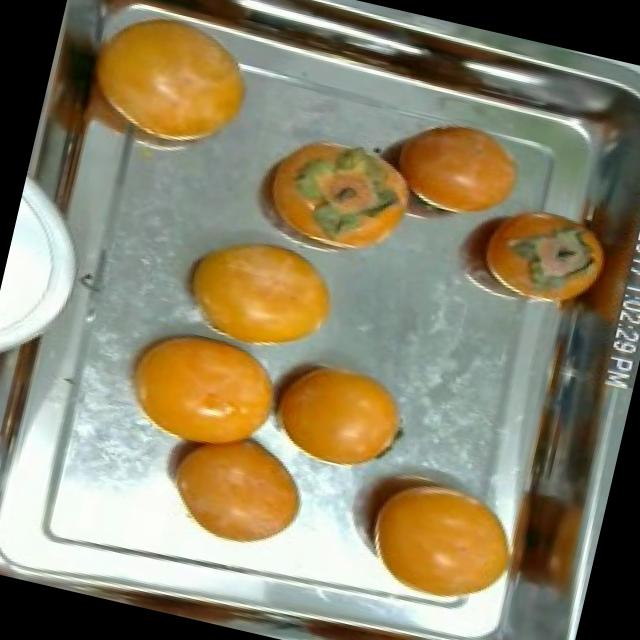Fruit: (65, 0, 273, 174), (100, 305, 302, 475), (232, 115, 430, 274), (158, 210, 356, 368), (341, 453, 528, 618), (244, 335, 426, 488), (142, 410, 321, 564), (436, 194, 616, 332), (366, 106, 542, 231)
